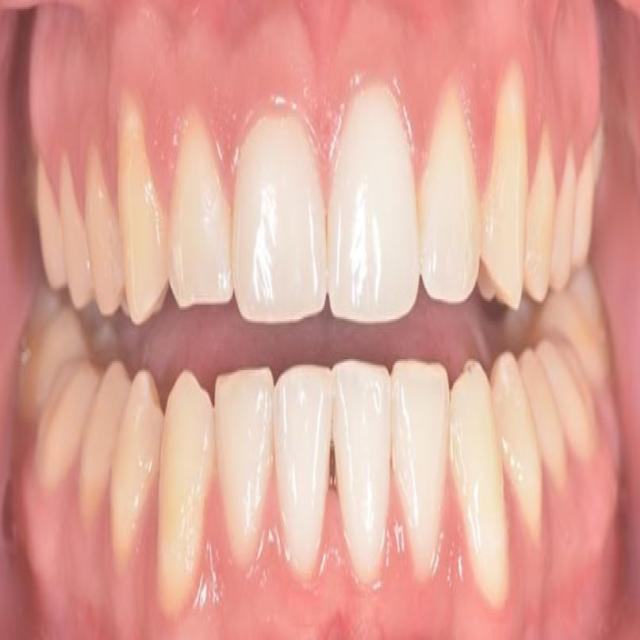1st Molar: (33, 365, 101, 489), (538, 339, 598, 463), (35, 166, 63, 286), (574, 146, 597, 261)
1st Premolar: (490, 350, 543, 551), (112, 372, 163, 565), (84, 148, 125, 317), (524, 133, 558, 305)
2nd Molar: (538, 266, 611, 399), (19, 286, 86, 425)
2nd Premolar: (79, 363, 131, 521), (519, 350, 569, 483), (60, 159, 91, 312), (553, 144, 577, 286)
Canine: (450, 361, 511, 609), (158, 366, 215, 624), (117, 93, 170, 325), (480, 60, 529, 310)
Central Incisor: (328, 86, 420, 323), (232, 111, 327, 325), (331, 361, 390, 589), (274, 366, 332, 580)
Lateral Incisor: (420, 80, 479, 305), (391, 361, 449, 587), (170, 108, 231, 308), (215, 368, 274, 563)
